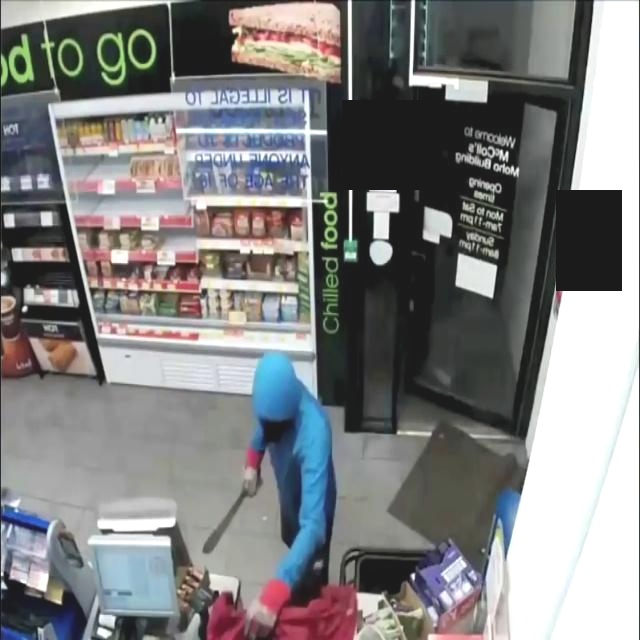gun: (197, 466, 270, 557)
